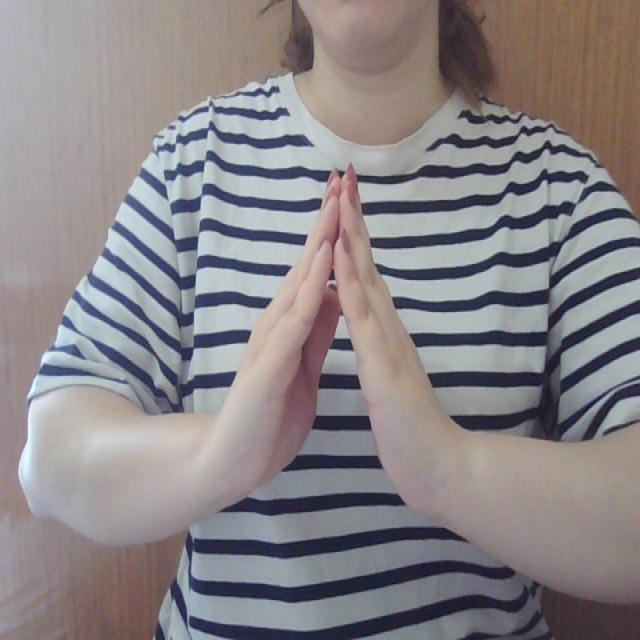Ev: (219, 154, 457, 503)
